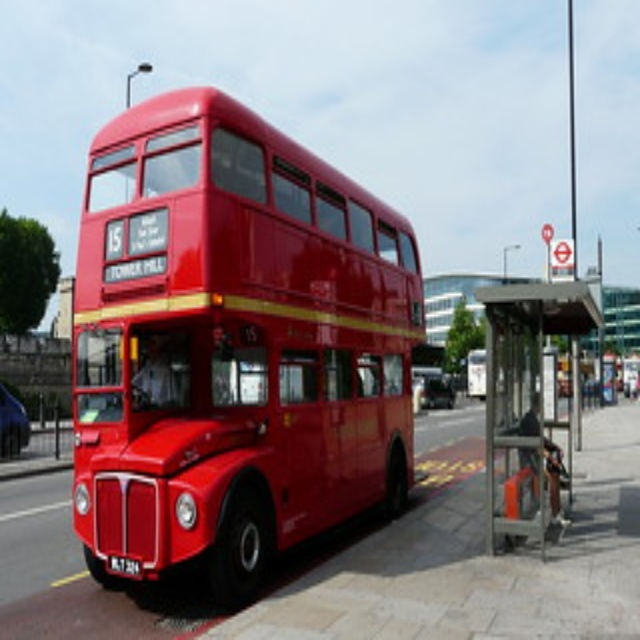Bus: (66, 87, 426, 601)
